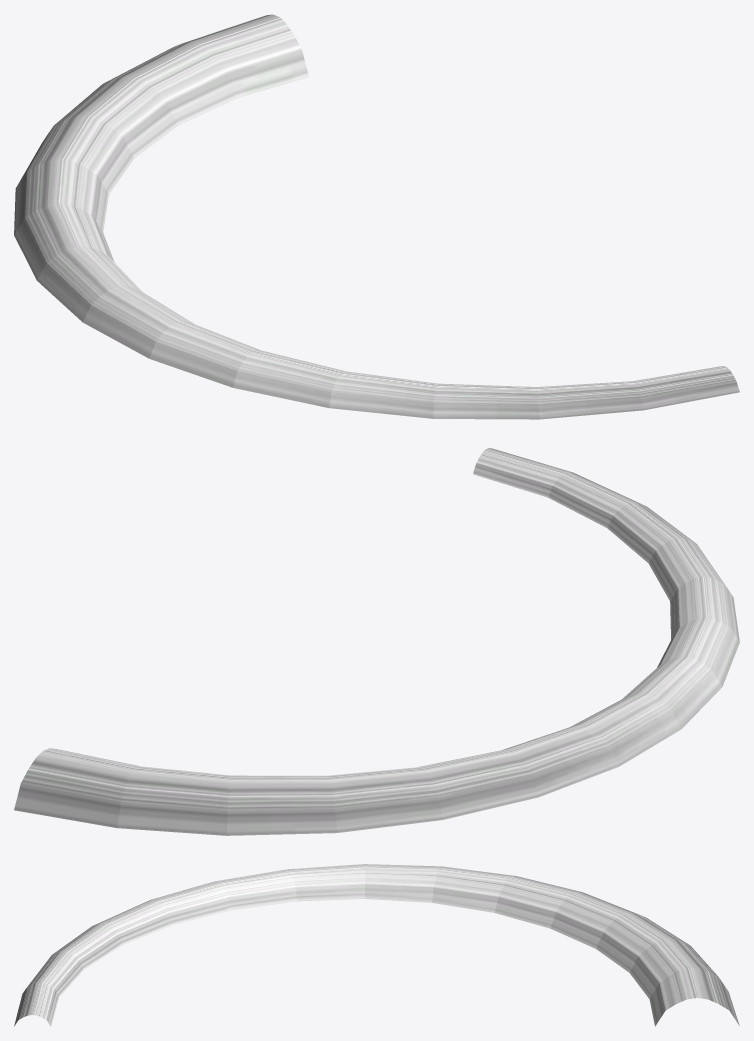
Rendered from RasenShuriken_BladeLine.fbx.
The picture shows the model from 3 angles, top to bottom: view 1: azimuth 30°, elevation 25°; view 2: azimuth 150°, elevation 25°; view 3: azimuth 270°, elevation 25°; orthographic projection. The views are drawn at different scales.
Visible parts, largest first — view 1: SM_WEP_Eff_TrueRasenShuriken_04.mo; view 2: SM_WEP_Eff_TrueRasenShuriken_04.mo; view 3: SM_WEP_Eff_TrueRasenShuriken_04.mo.
Boxes of the visible parts, bbox=[...] form: SM_WEP_Eff_TrueRasenShuriken_04.mo: bbox=[14, 14, 739, 419]; SM_WEP_Eff_TrueRasenShuriken_04.mo: bbox=[14, 448, 739, 835]; SM_WEP_Eff_TrueRasenShuriken_04.mo: bbox=[14, 864, 739, 1026].
Size of the model in its own units: 55.47 by 4.88 by 111.
